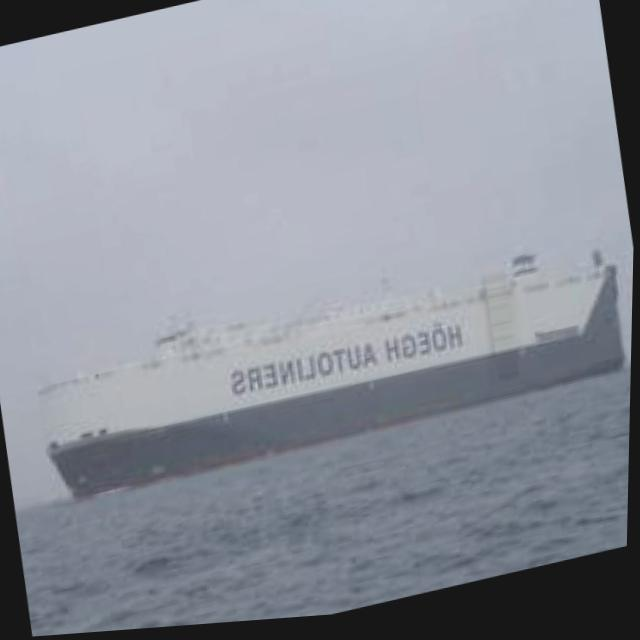ship2: (39, 261, 629, 504)
